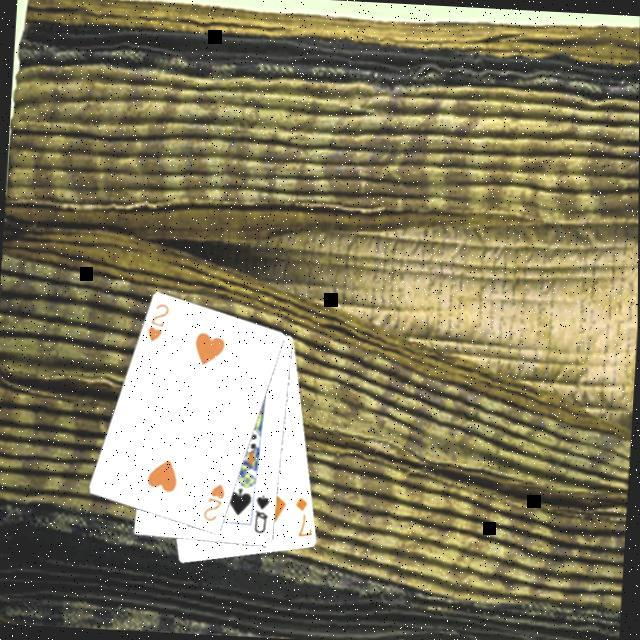2H: (145, 299, 174, 345), (202, 478, 230, 524)
7D: (292, 492, 316, 540)
QS: (253, 491, 275, 536)
